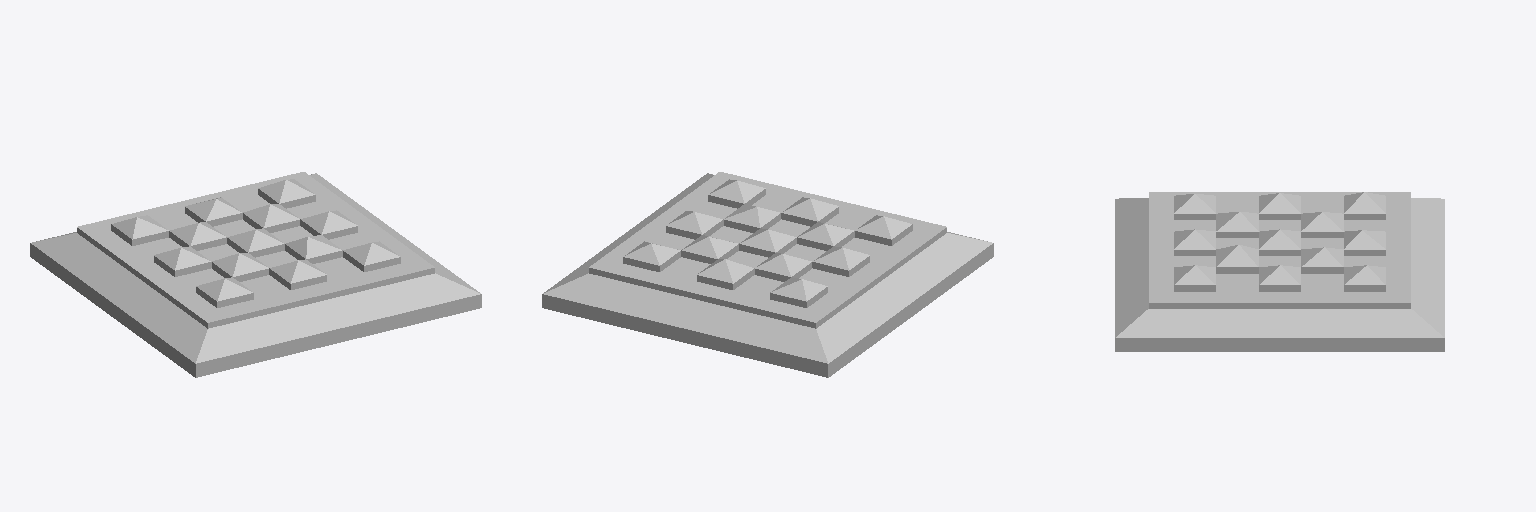
The model's file is DamageBuff.obj.
The picture shows the model from 3 angles: view 1: azimuth 30°, elevation 25°; view 2: azimuth 150°, elevation 25°; view 3: azimuth 270°, elevation 25°; orthographic projection.
Parts seen in each view (by area): view 1: DamageBuff:pCube3; view 2: DamageBuff:pCube3; view 3: DamageBuff:pCube3.
Part boxes in pixels (x1,y1,x2,y2): DamageBuff:pCube3: (30, 172, 481, 377); DamageBuff:pCube3: (542, 172, 993, 377); DamageBuff:pCube3: (1115, 192, 1444, 351).
Bounding box in the file's own units: 1.26 × 0.2243 × 1.26.